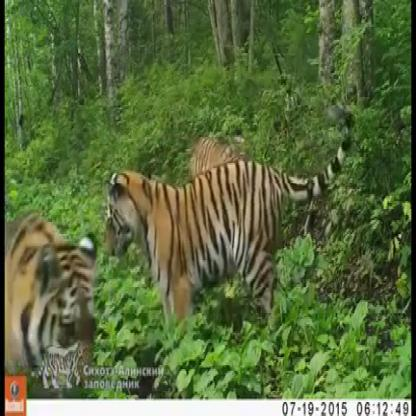Tiger: (96, 136, 302, 322), (6, 206, 96, 356), (198, 129, 234, 177)
